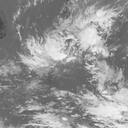cyclone: (20, 27, 72, 73)
